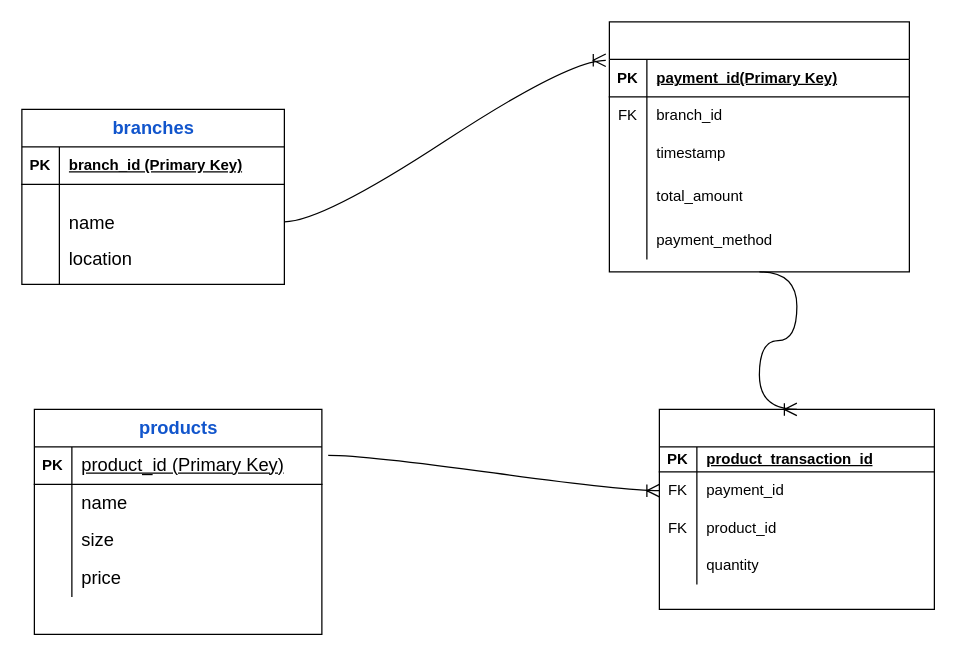
The diagram is 956 pixels wide and 656 high, and some of its shapes have lost their labels. The shapes that lost their labels are listed below. From the top down, each one's box as (x1, y1, x2, y2) in pixels, then its label:
(608, 21, 909, 272): transactions
(658, 408, 934, 609): product_transactions
